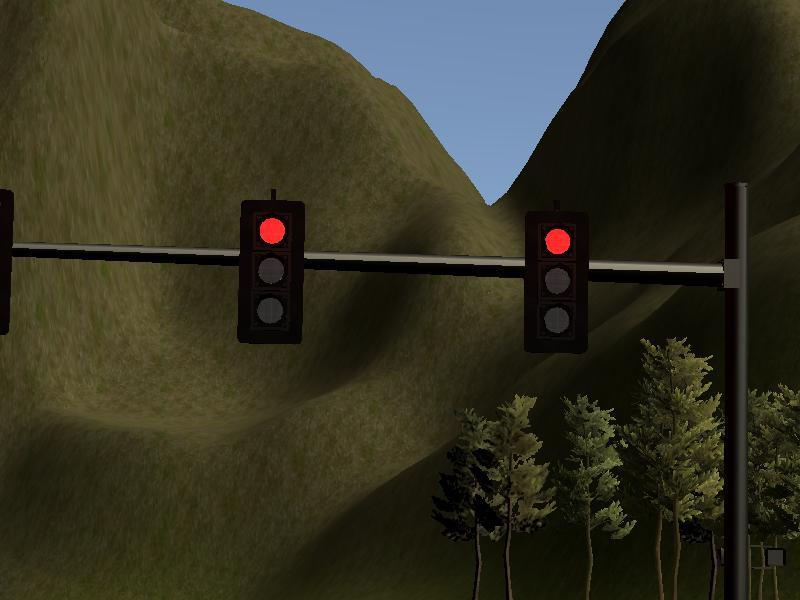Red: (241, 202, 302, 340), (529, 213, 587, 349)
